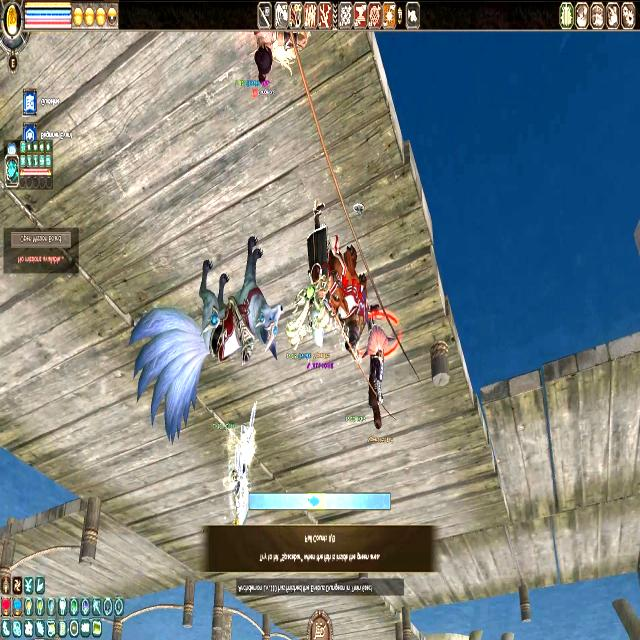fishes: (307, 494, 321, 508)
